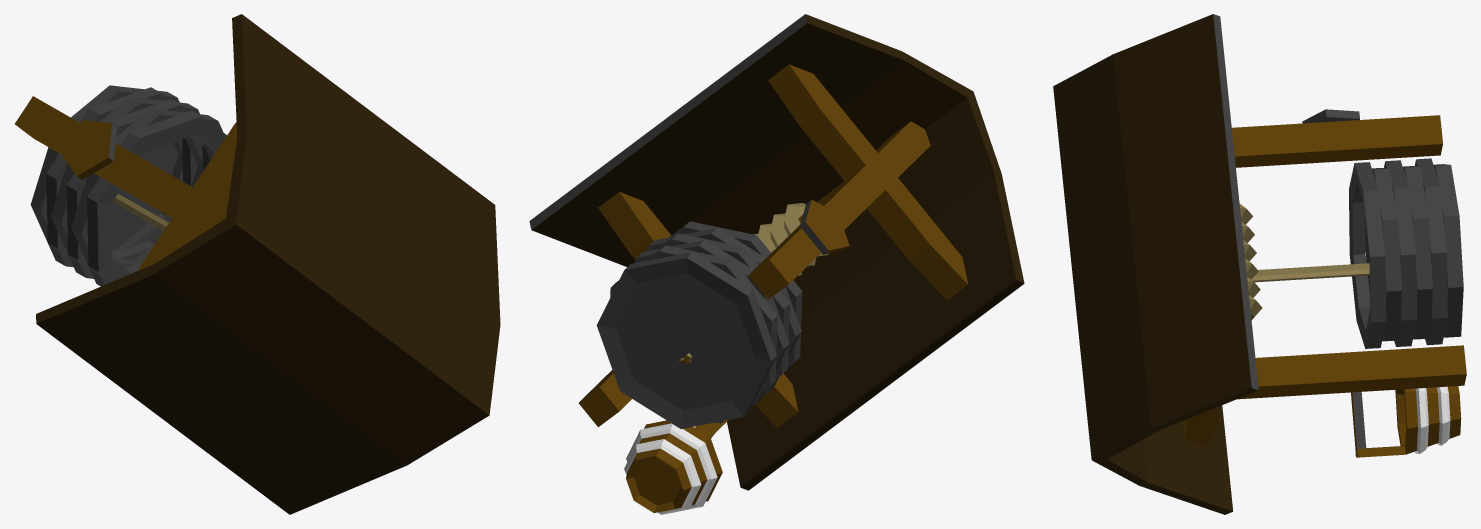
The model's file is planet_well.glb.
3 renders of one model, left to right at view 1: azimuth 30°, elevation 25°; view 2: azimuth 150°, elevation 25°; view 3: azimuth 270°, elevation 25°, orthographic. The views are drawn at different scales.
Visible parts, largest first — view 1: well; view 2: well; view 3: well.
Part boxes in pixels (x1,y1,x2,y2): well: (15, 14, 500, 514); well: (529, 14, 1024, 514); well: (1053, 14, 1466, 514).
Bounding box in the file's own units: 8.44 × 8.47 × 6.66.
